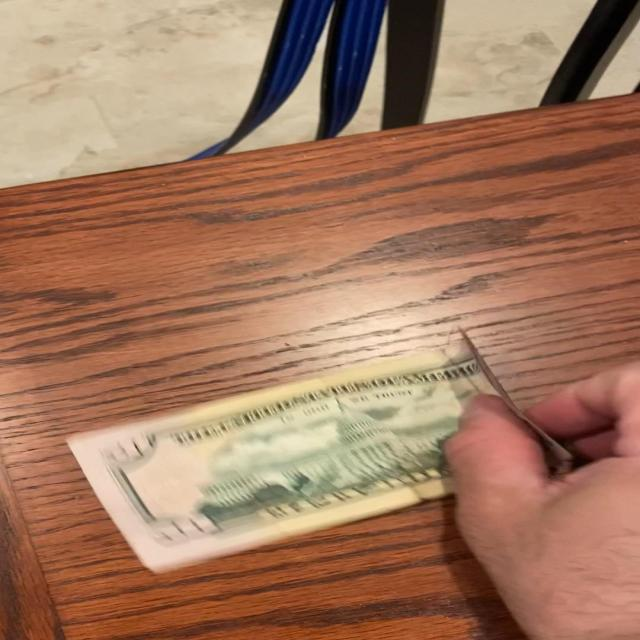50-Back: (70, 327, 583, 578)
